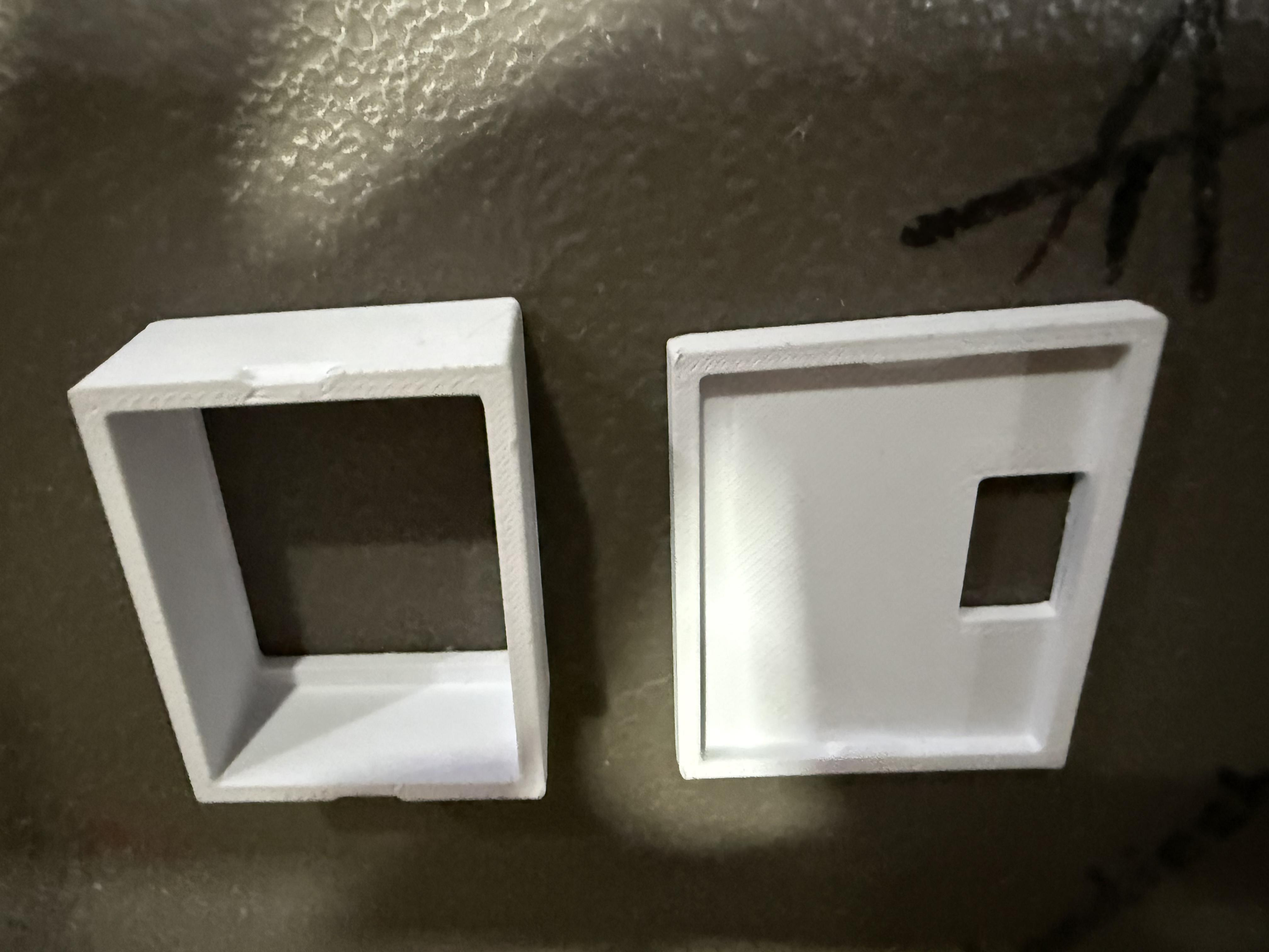enclosure: (68, 297, 548, 804), (666, 299, 1169, 780)
